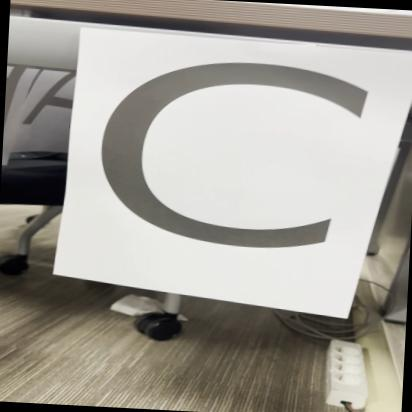seat: (80, 23, 400, 315)
